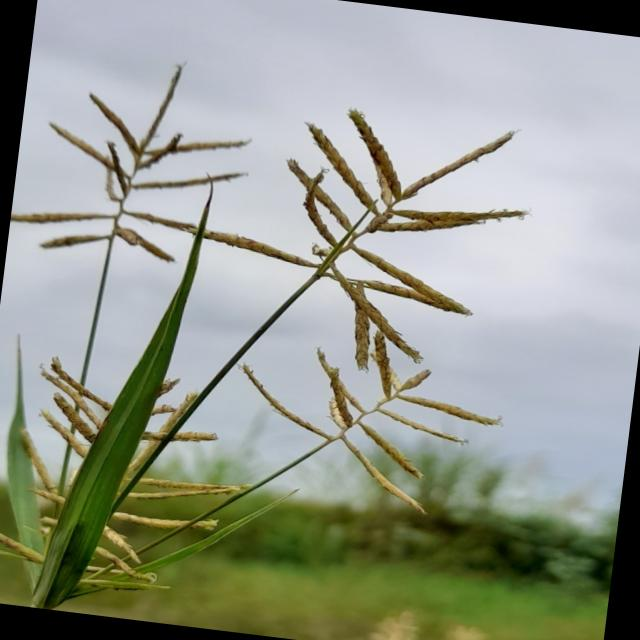cyperus: (0, 43, 562, 640), (225, 80, 550, 536), (0, 307, 262, 607), (5, 38, 274, 297)
